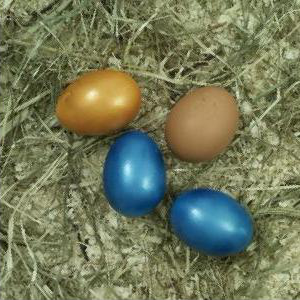egg: (53, 69, 142, 137), (164, 85, 240, 164), (169, 188, 255, 257), (103, 131, 167, 217)
